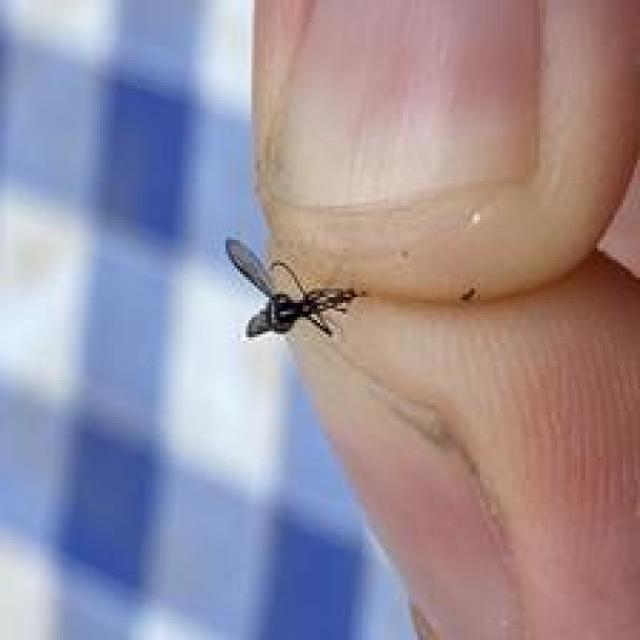Aedes albopictus: (223, 236, 366, 341)
